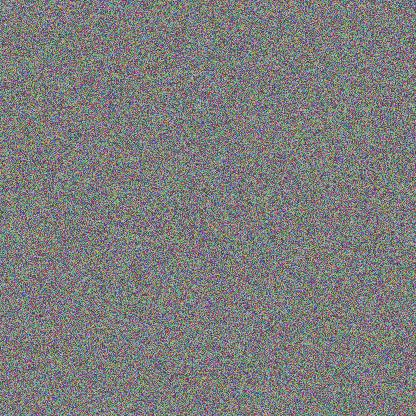empty: (270, 158, 337, 232)
occupied: (124, 237, 198, 319)
